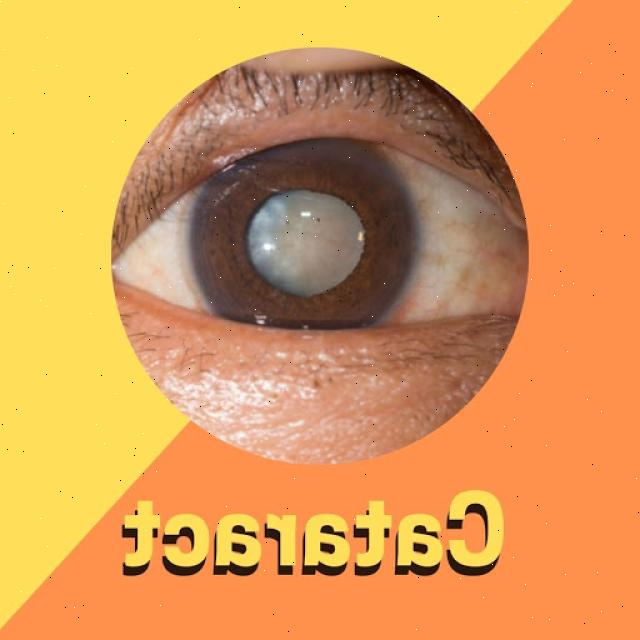Cataract: (184, 125, 418, 359)
